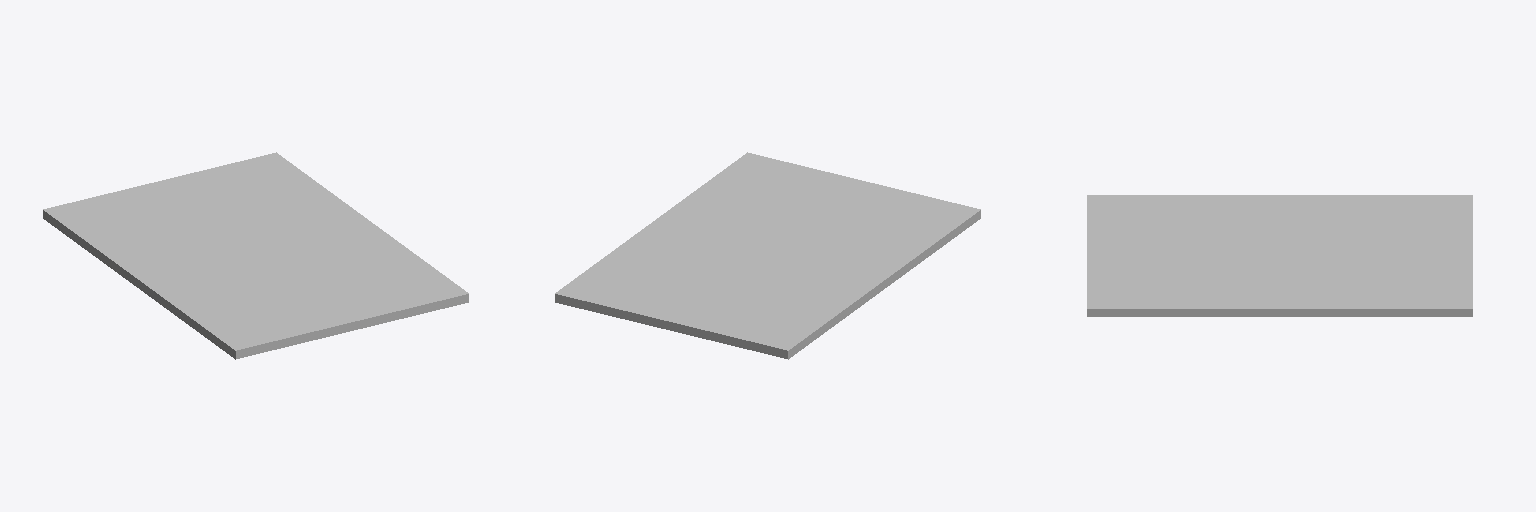
File: road1.obj
3 renders of one model, left to right at view 1: azimuth 30°, elevation 25°; view 2: azimuth 150°, elevation 25°; view 3: azimuth 270°, elevation 25°, orthographic.
Parts seen in each view (by area): view 1: road1; view 2: road1; view 3: road1.
Boxes of the visible parts, <box> form: road1: <box>43,152,468,359</box>; road1: <box>555,152,980,359</box>; road1: <box>1087,195,1472,316</box>.
Size of the model in its own units: 28 by 1 by 40.